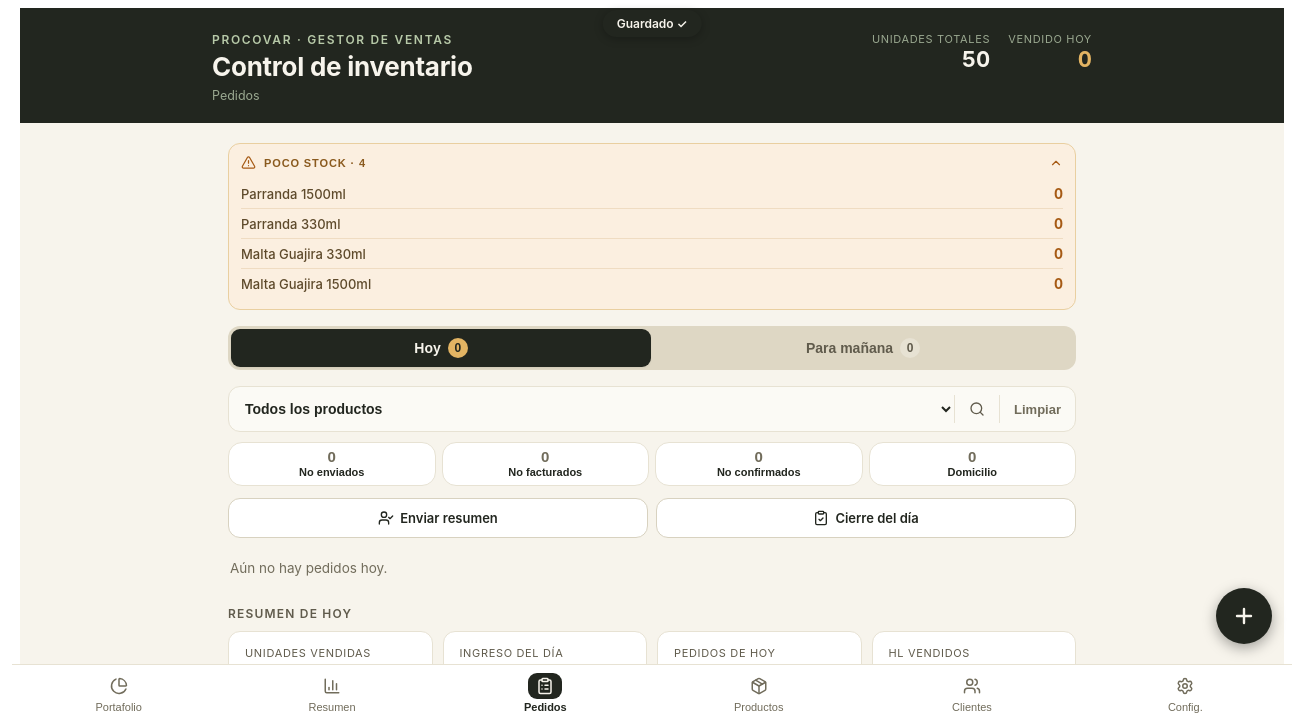
Scenario: cambio de pestaña › la vista activa va envuelta en el fundido y se reinicia al cambiar de pestaña
Expected: the button named "Nuevo pedido" is shown, [1216,588,1272,644]
Click the button "Clientes".
click(972, 692)  # box [865,665,1079,719]
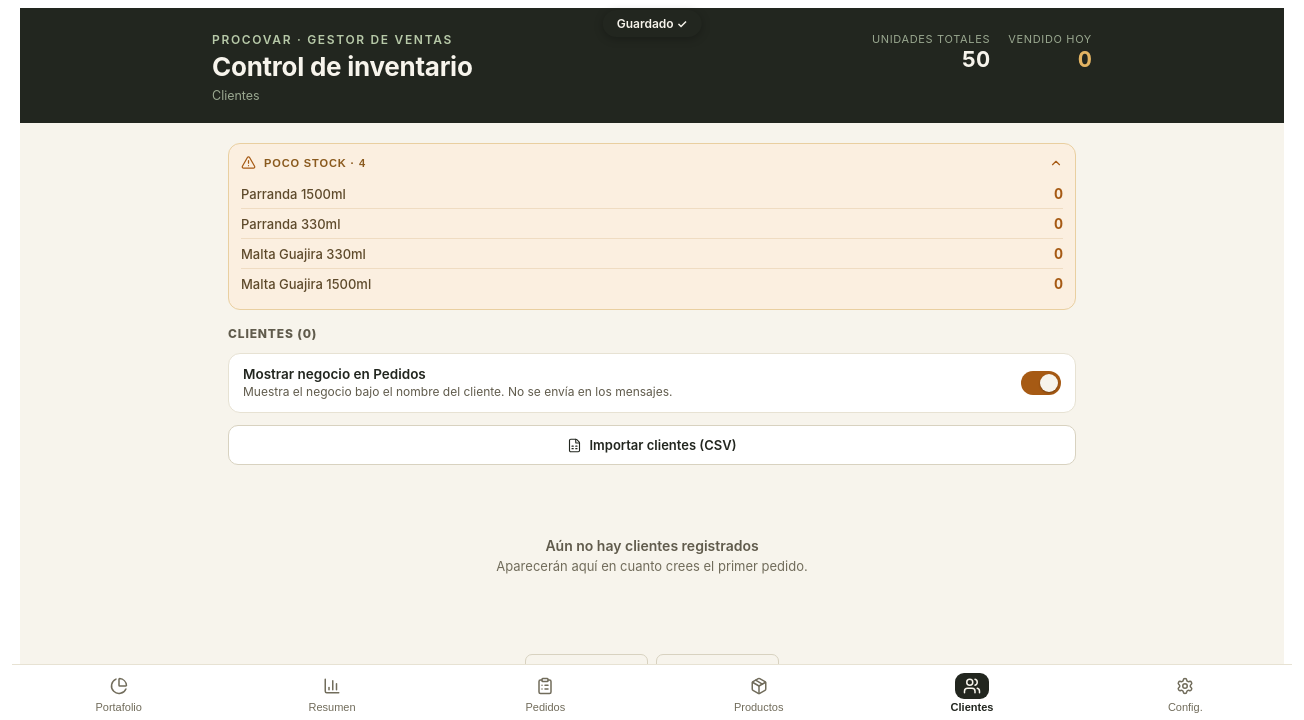
Expected: the element that starts with "CLIENTES (" is shown, [228,326,1076,634]
Result: the text "CLIENTES (0)" is shown at [228,326,317,341]
